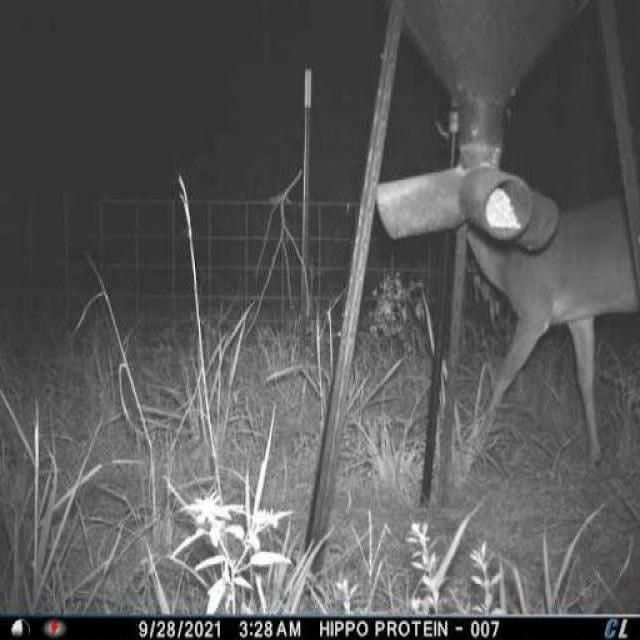deer: (436, 170, 636, 490)
